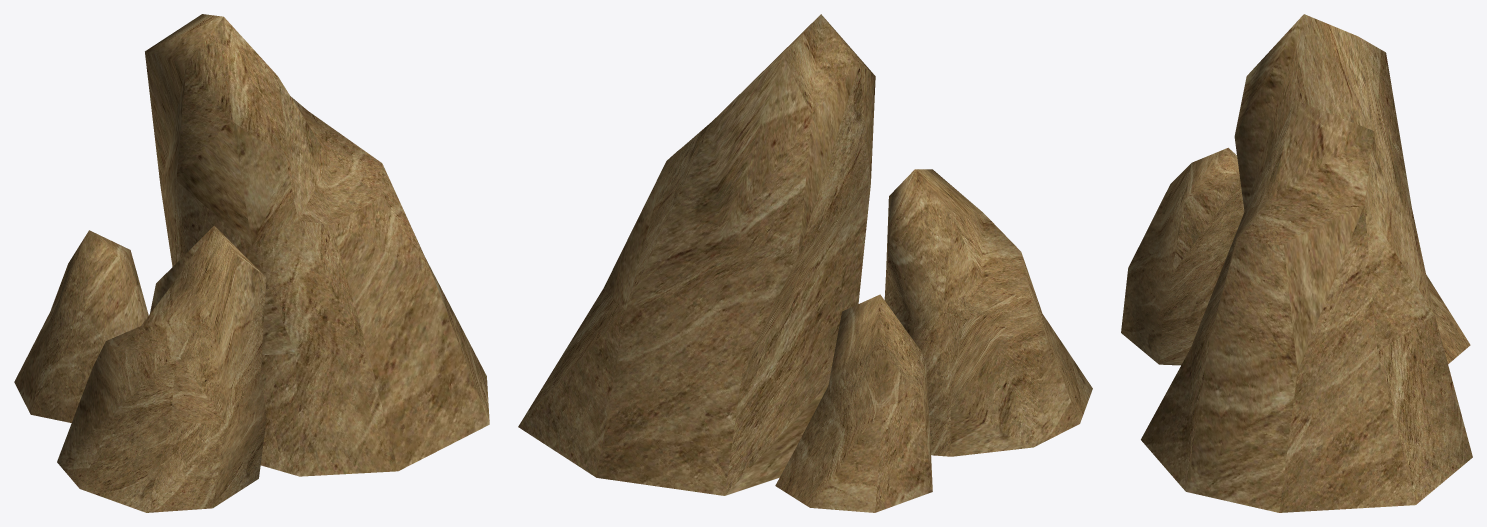
File: w_cd_rock_big_01.glb
3 views of the same model, side by side, from view 1: azimuth 30°, elevation 25°; view 2: azimuth 150°, elevation 25°; view 3: azimuth 270°, elevation 25° (orthographic). The views are drawn at different scales.
Visible parts, largest first — view 1: w_cd_rock_Big_01; view 2: w_cd_rock_Big_01; view 3: w_cd_rock_Big_01.
Part boxes in pixels (x1,y1,x2,y2): w_cd_rock_Big_01: (14, 14, 489, 512); w_cd_rock_Big_01: (518, 14, 1092, 512); w_cd_rock_Big_01: (1121, 14, 1472, 512).
Size of the model in its own units: 27.52 by 24.32 by 20.06.
Materials: 1 (1 with a texture image).
